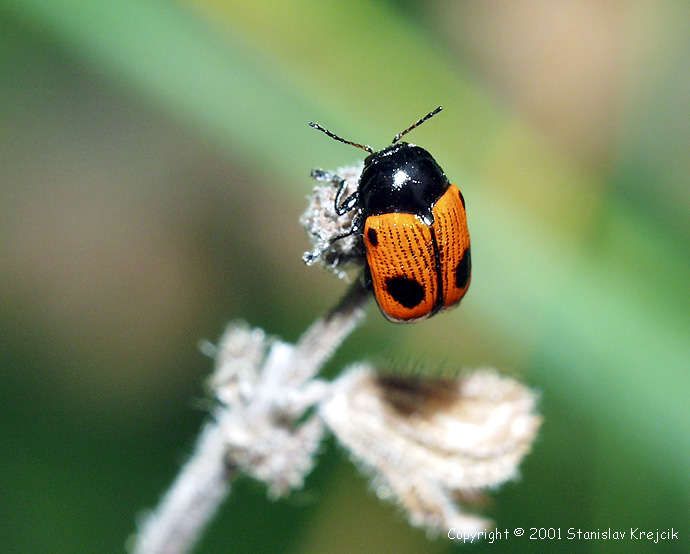Cryptocephalus_bipunctatus: (308, 101, 475, 328)
